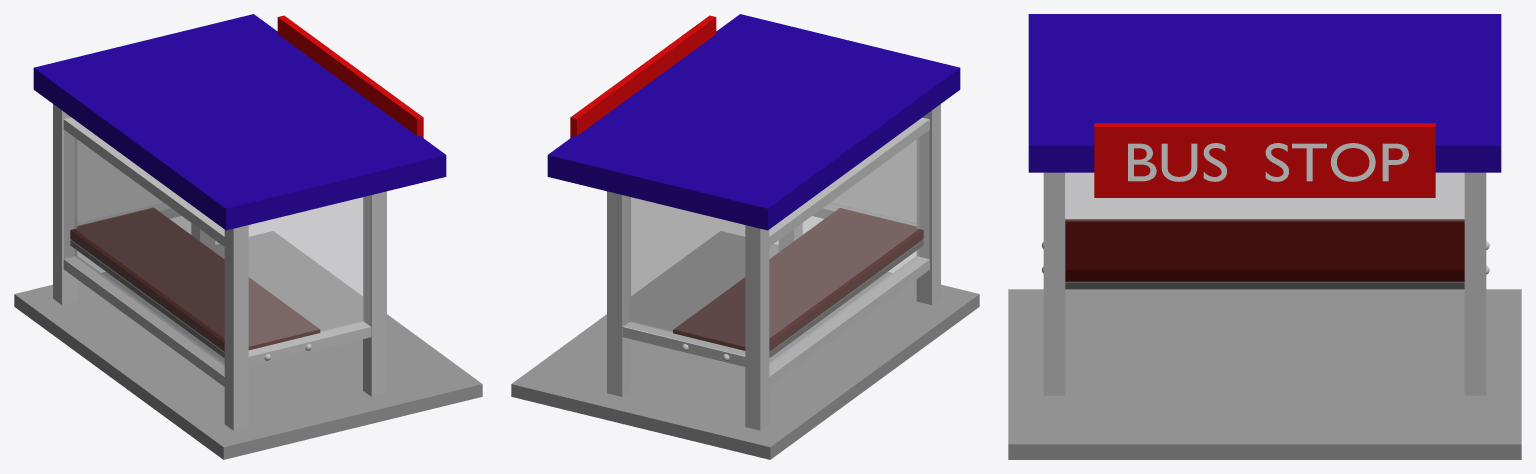
Rendered from busstop.glb.
The picture shows the model from 3 angles, left to right: view 1: azimuth 30°, elevation 25°; view 2: azimuth 150°, elevation 25°; view 3: azimuth 270°, elevation 25°; orthographic projection. The views are drawn at different scales.
Parts seen in each view (by area): view 1: Cube.003, Cube, Cube.005, Cube.006, Cube.001, Cube.007, Cube.002, Cube.004, Cube.008; view 2: Cube.003, Cube, Cube.005, Cube.006, Cube.001, Cube.007, Cube.002, Cube.004, Cube.008; view 3: Cube, Cube.003, Cube.007, Cube.004, Cube.005, Cube.001, Text, Cube.008.
Boxes of the visible parts, x1,y1,x2,y2 form: Cube.003: (33,14,446,230); Cube: (14,231,482,459); Cube.005: (64,130,224,375); Cube.006: (77,140,370,355); Cube.001: (53,104,386,430); Cube.007: (70,207,320,351); Cube.002: (63,117,224,386); Cube.004: (277,15,423,137); Cube.008: (70,240,224,357); Cube.003: (547,14,960,230); Cube: (511,231,979,459); Cube.005: (769,130,929,375); Cube.006: (623,140,916,355); Cube.001: (607,104,940,430); Cube.007: (673,208,923,351); Cube.002: (769,117,929,386); Cube.004: (570,15,716,137); Cube.008: (769,240,923,357); Cube: (1008,289,1521,459); Cube.003: (1028,14,1501,172); Cube.007: (1065,219,1464,281); Cube.004: (1094,123,1435,197); Cube.005: (1065,172,1464,221); Cube.001: (1043,172,1486,395); Text: (1128,143,1408,181); Cube.008: (1065,281,1464,289).
Size of the model in its own units: 6 by 5.75 by 8.4.
